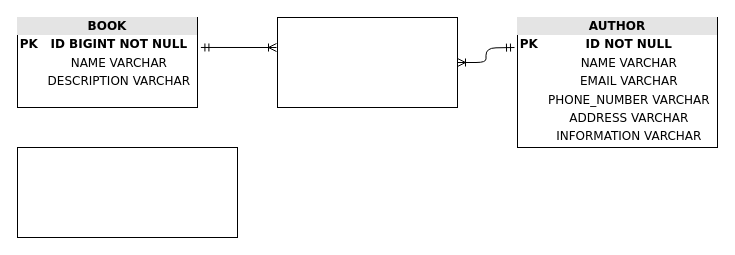
This 735x255 diagram has some shape labels left out. Each missing label, with the centre of its shape:
"BOOK_AUTHOR PK BOOK_ID NOT NULL PK AUTHOR_ID NOT NULL" goes at pixel 367 62.
"USER PK ID NOT NULL USERNAME VARCHAR PASSWORD VARCHAR ROLE VARCHAR" goes at pixel 127 192.
